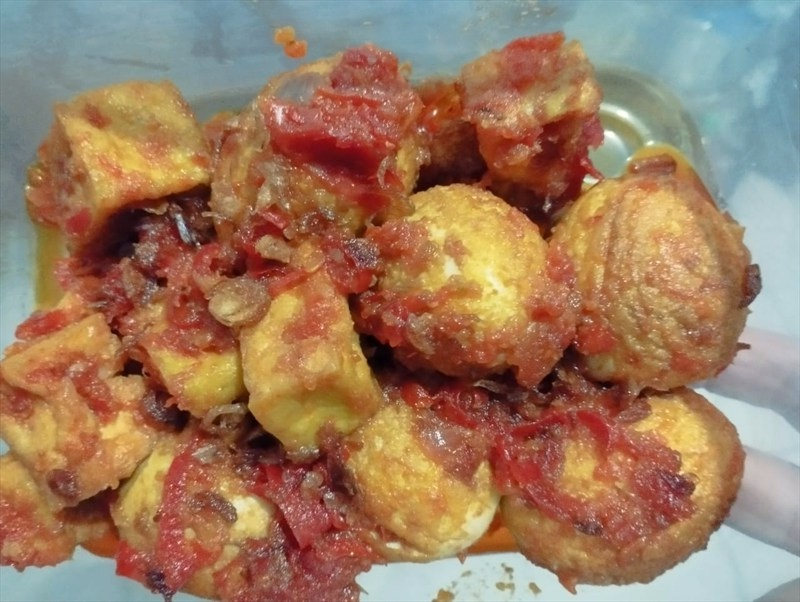Telur Balado: (87, 109, 628, 518)
